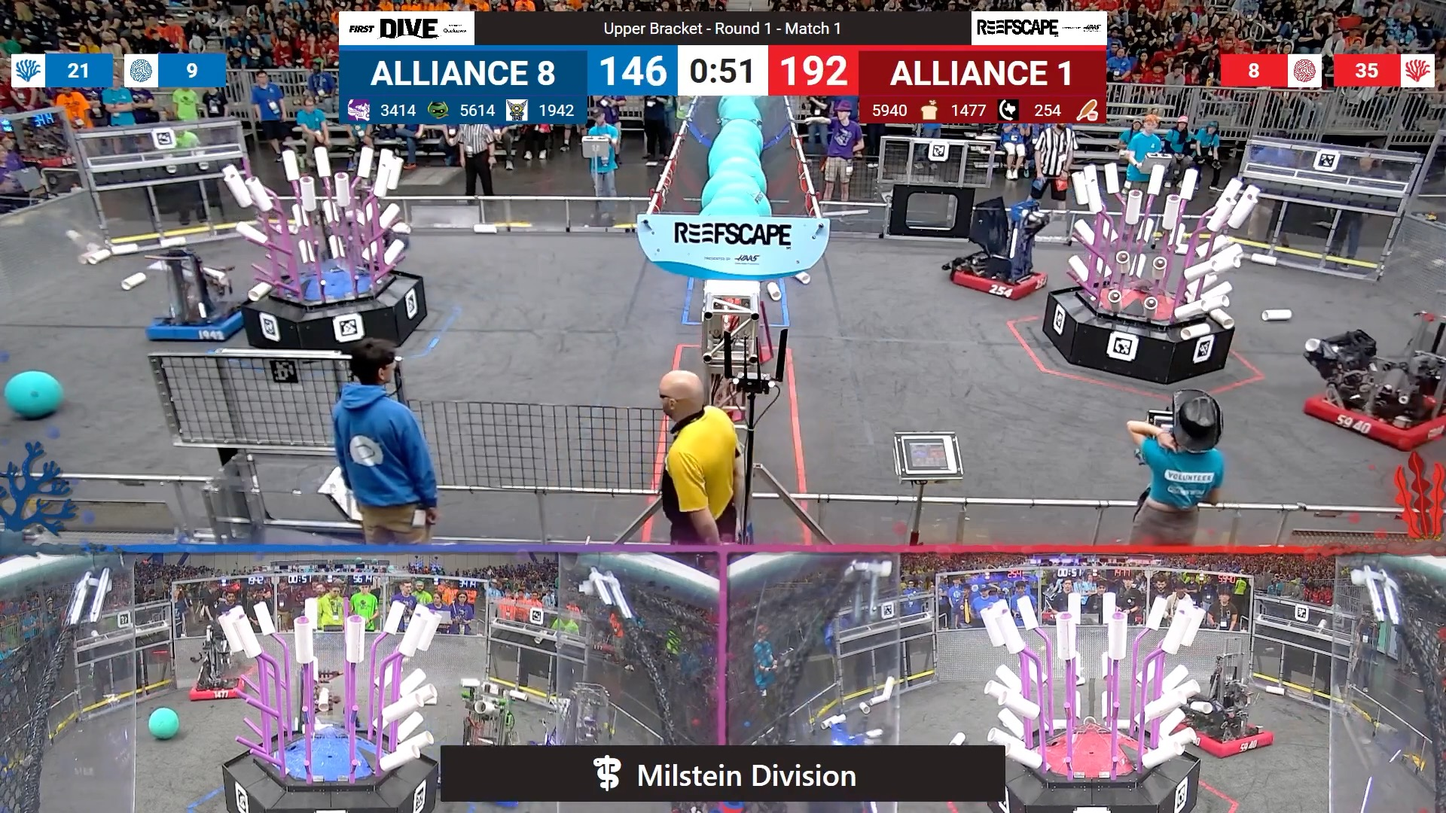bumpers: (1291, 379, 1442, 453), (1163, 706, 1285, 759), (142, 298, 251, 347), (938, 259, 1053, 302), (186, 673, 253, 702)
